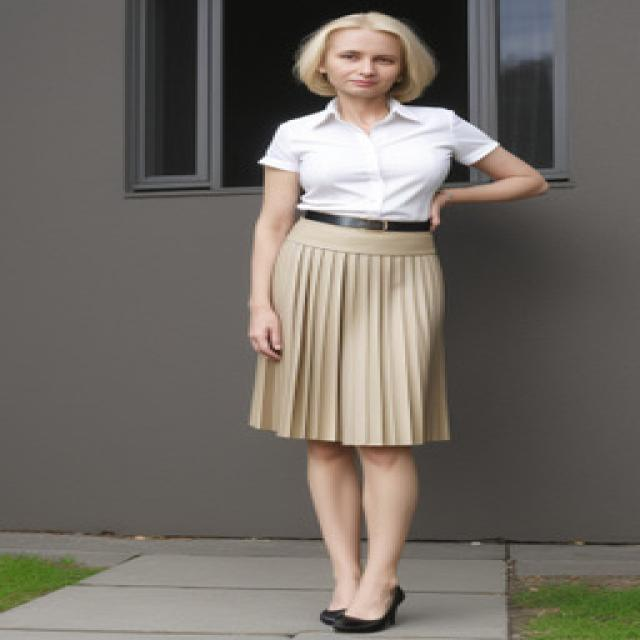Ai human 2: (232, 0, 560, 640)
